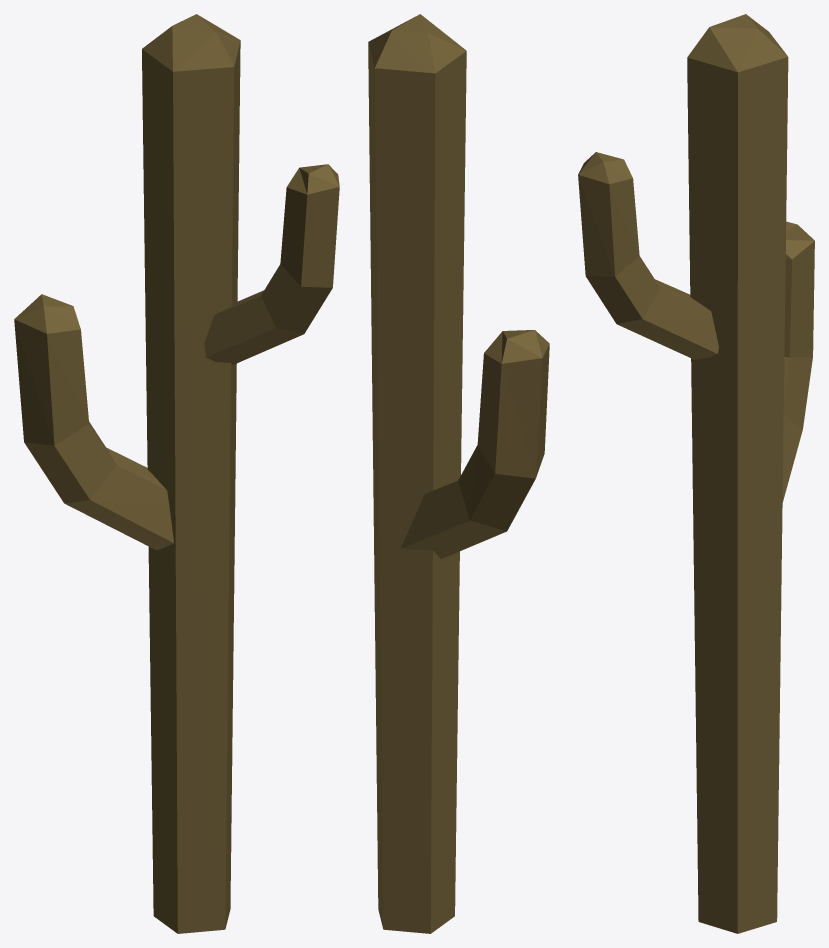
Rendered from ADDON_CANYONPLANT_CACTUSLONG_02_97P.OBJ.
3 renders of one model, left to right at view 1: azimuth 30°, elevation 25°; view 2: azimuth 150°, elevation 25°; view 3: azimuth 270°, elevation 25°, orthographic.
Parts seen in each view (by area): view 1: ADDON_CANYONPLANT_CACTUSLONG_02_97P; view 2: ADDON_CANYONPLANT_CACTUSLONG_02_97P; view 3: ADDON_CANYONPLANT_CACTUSLONG_02_97P.
Boxes of the visible parts, x1,y1,x2,y2 form: ADDON_CANYONPLANT_CACTUSLONG_02_97P: (14, 14, 339, 933); ADDON_CANYONPLANT_CACTUSLONG_02_97P: (368, 14, 549, 933); ADDON_CANYONPLANT_CACTUSLONG_02_97P: (578, 14, 814, 933).
Bounding box in the file's own units: 1.37 × 5.01 × 1.2.
